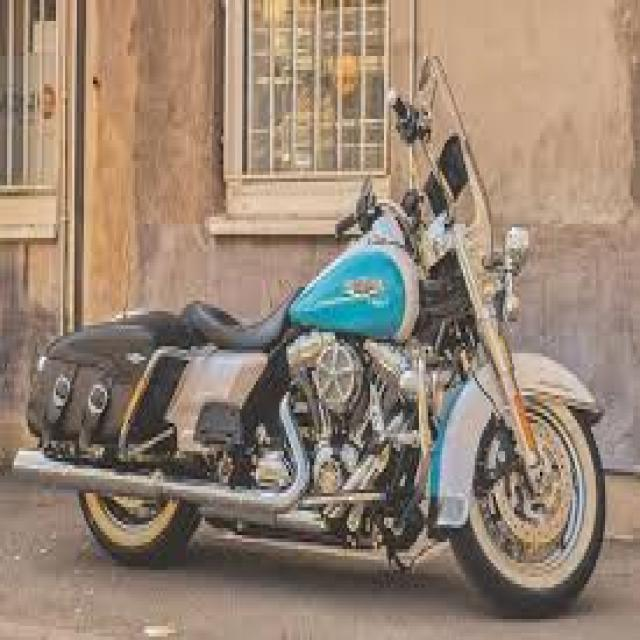MOTORCYCLE: (34, 185, 614, 606)
